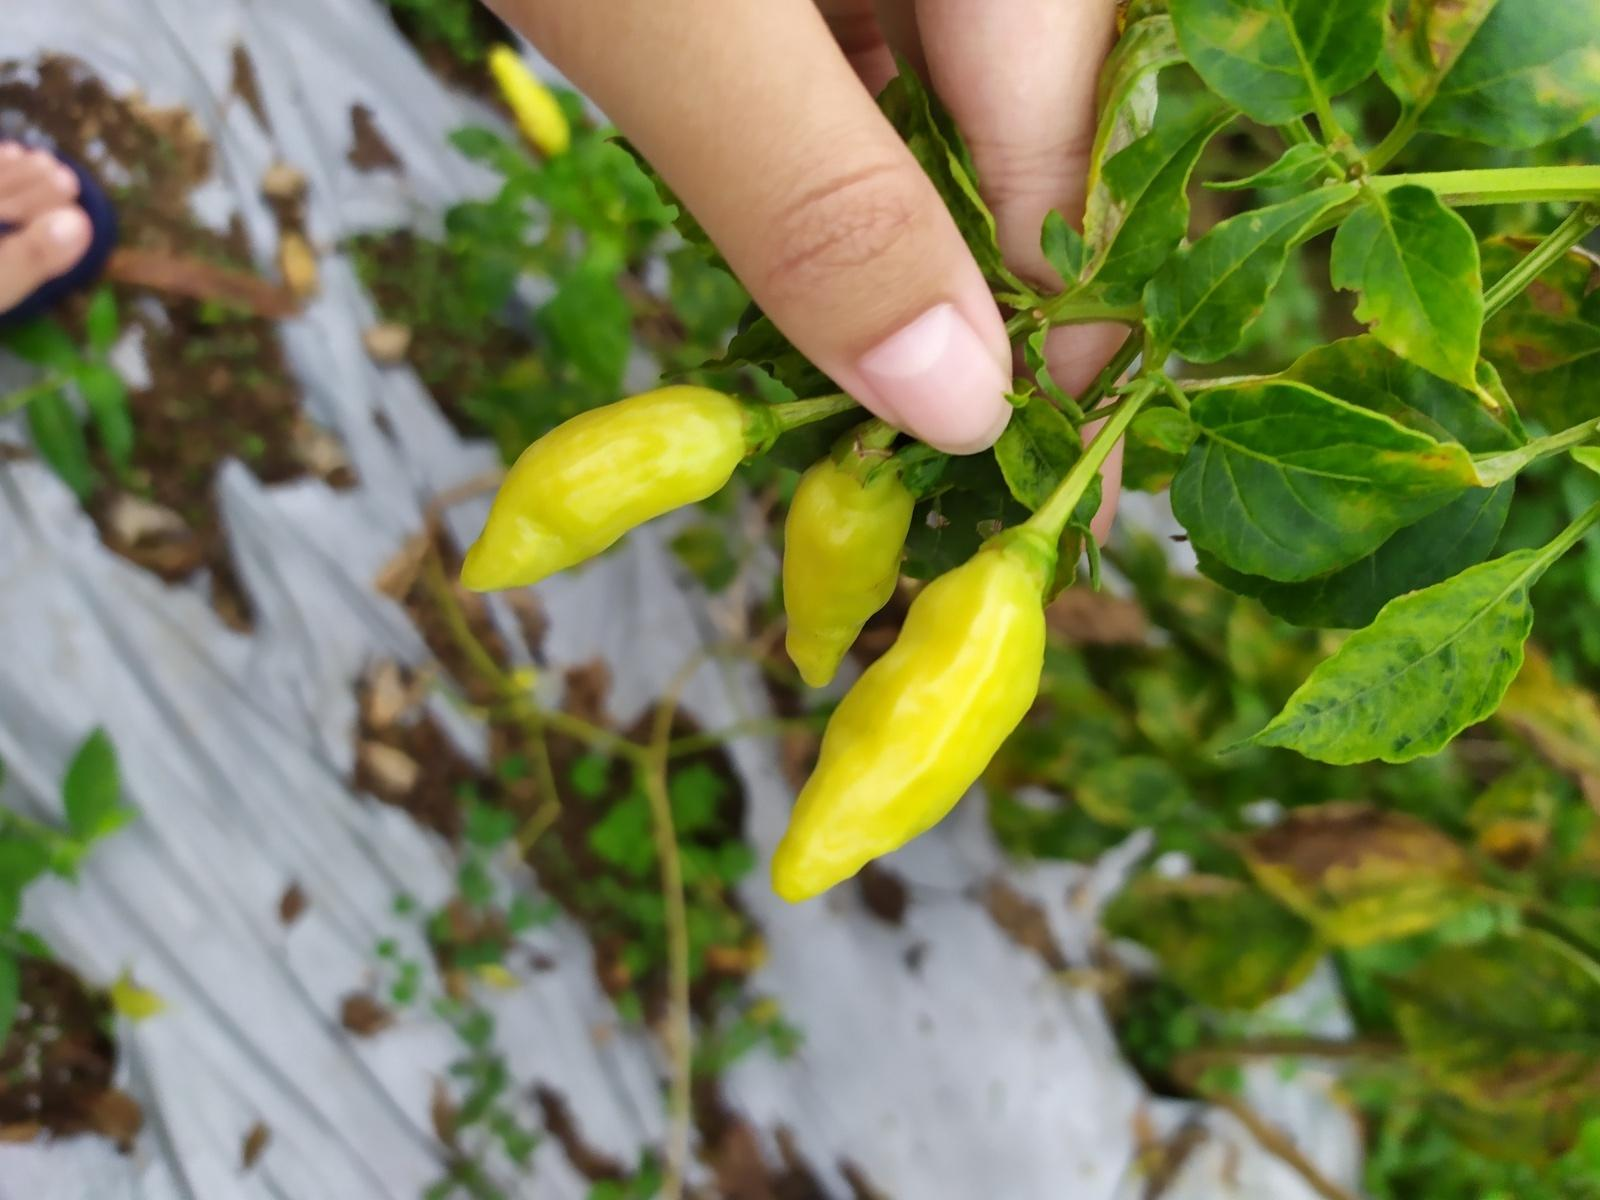cabai_normal: (770, 540, 1045, 902), (459, 384, 755, 594), (783, 455, 915, 688)
